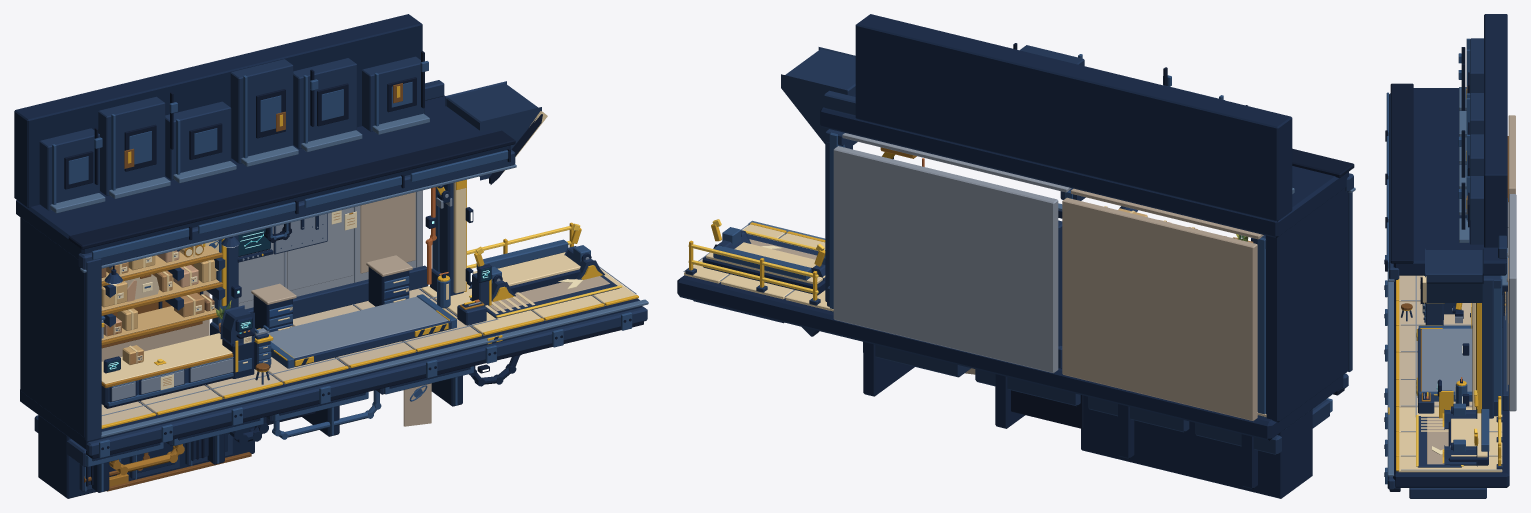
File: shop_cutaway_textured.glb
The picture shows the model from 3 angles, left to right: view 1: azimuth 30°, elevation 25°; view 2: azimuth 150°, elevation 25°; view 3: azimuth 270°, elevation 25°; orthographic projection. The views are drawn at different scales.
Visible parts, largest first — view 1: V4_Shop_DeepNavy.001, V4_Shop_FrameNavy.001, V4_Shop_Cobalt.001, V4_Shop_Ink.001, V4_Shop_Steel.001, V4_Shop_EdgeBlue.001, V4_Shop_Cream.001, V4_Shop_WarmWall.001, V4_Shop_WallBlue.001, V4_Shop_Plaster.001, V4_Shop_Gold.001, V4_Shop_ParcelLight.001 (+8 smaller); view 2: V4_Shop_DeepNavy.001, V4_Shop_WallBlue.001, V4_Shop_WarmWall.001, V4_Shop_FrameNavy.001, V4_Shop_Cobalt.001, V4_Shop_Cream.001, V4_Shop_Ink.001, V4_Shop_SunGold.001, V4_Shop_Gold.001; view 3: V4_Shop_DeepNavy.001, V4_Shop_FrameNavy.001, V4_Shop_Ink.001, V4_Shop_Cobalt.001, V4_Shop_Steel.001, V4_Shop_Cream.001, V4_Shop_Plaster.001, V4_Shop_EdgeBlue.001, V4_Shop_Gold.001, V4_Shop_WallBlue.001, V4_Shop_WarmWall.001, V4_Shop_SunGold.001 (+2 smaller).
Part boxes in pixels (x1=…): V4_Shop_DeepNavy.001: x1=14, y1=14, x2=642, y2=498; V4_Shop_FrameNavy.001: x1=34, y1=56, x2=647, y2=491; V4_Shop_Cobalt.001: x1=52, y1=61, x2=632, y2=491; V4_Shop_Ink.001: x1=64, y1=51, x2=643, y2=486; V4_Shop_Steel.001: x1=101, y1=185, x2=636, y2=415; V4_Shop_EdgeBlue.001: x1=50, y1=113, x2=648, y2=437; V4_Shop_Cream.001: x1=101, y1=111, x2=635, y2=383; V4_Shop_WarmWall.001: x1=101, y1=192, x2=609, y2=426; V4_Shop_WallBlue.001: x1=238, y1=190, x2=422, y2=309; V4_Shop_Plaster.001: x1=101, y1=274, x2=478, y2=425; V4_Shop_Gold.001: x1=101, y1=86, x2=638, y2=428; V4_Shop_ParcelLight.001: x1=101, y1=245, x2=219, y2=364; V4_Shop_DeepNavy.001: x1=677, y1=14, x2=1348, y2=498; V4_Shop_WallBlue.001: x1=833, y1=133, x2=1071, y2=373; V4_Shop_WarmWall.001: x1=749, y1=188, x2=1263, y2=420; V4_Shop_FrameNavy.001: x1=685, y1=45, x2=1353, y2=454; V4_Shop_Cobalt.001: x1=713, y1=54, x2=1332, y2=417; V4_Shop_Cream.001: x1=684, y1=224, x2=833, y2=311; V4_Shop_Ink.001: x1=1011, y1=43, x2=1354, y2=428; V4_Shop_SunGold.001: x1=688, y1=219, x2=824, y2=294; V4_Shop_Gold.001: x1=689, y1=152, x2=894, y2=300; V4_Shop_DeepNavy.001: x1=1388, y1=14, x2=1509, y2=487; V4_Shop_FrameNavy.001: x1=1387, y1=38, x2=1508, y2=498; V4_Shop_Ink.001: x1=1384, y1=47, x2=1469, y2=491; V4_Shop_Cobalt.001: x1=1385, y1=38, x2=1502, y2=484; V4_Shop_Steel.001: x1=1401, y1=252, x2=1507, y2=470; V4_Shop_Cream.001: x1=1398, y1=276, x2=1502, y2=472; V4_Shop_Plaster.001: x1=1399, y1=275, x2=1472, y2=407; V4_Shop_EdgeBlue.001: x1=1387, y1=87, x2=1507, y2=476; V4_Shop_Gold.001: x1=1388, y1=89, x2=1501, y2=471; V4_Shop_WallBlue.001: x1=1507, y1=194, x2=1516, y2=411; V4_Shop_WarmWall.001: x1=1427, y1=115, x2=1515, y2=464; V4_Shop_SunGold.001: x1=1416, y1=390, x2=1501, y2=466.
Size of the model in its own units: 27.15 by 16.72 by 6.59.
Materials: 31 (1 with a texture image).
